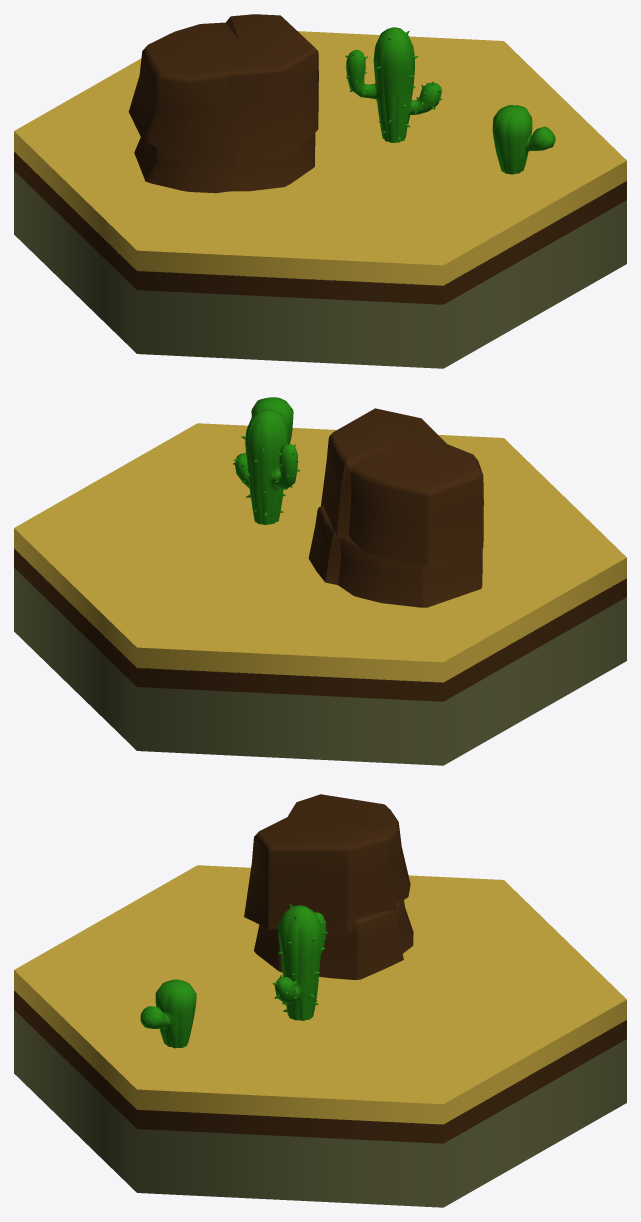
Rendered from Model_Rock2.fbx.
3 renders of one model, top to bottom at view 1: azimuth 30°, elevation 25°; view 2: azimuth 150°, elevation 25°; view 3: azimuth 270°, elevation 25°, orthographic.
Parts seen in each view (by area): view 1: Cylinder018, Cylinder020, Obj3d66-9454016-6-145, Cylinder019, Obj3d66-9454016-6-144, Obj3d66-1611312-10-674, Obj3d66-1611312-3-571; view 2: Cylinder018, Cylinder020, Obj3d66-9454016-6-145, Cylinder019, Obj3d66-9454016-6-144, Obj3d66-1611312-10-674, Obj3d66-1611312-3-571; view 3: Cylinder018, Cylinder020, Obj3d66-9454016-6-145, Cylinder019, Obj3d66-9454016-6-144, Obj3d66-1611312-10-674, Obj3d66-1611312-3-571.
Part boxes in pixels (left/top/right/bottom): Cylinder018: left=14, top=31, right=626, bottom=285; Cylinder020: left=14, top=171, right=626, bottom=368; Obj3d66-9454016-6-145: left=128, top=14, right=318, bottom=169; Cylinder019: left=14, top=151, right=626, bottom=304; Obj3d66-9454016-6-144: left=134, top=133, right=315, bottom=193; Obj3d66-1611312-10-674: left=346, top=27, right=441, bottom=142; Obj3d66-1611312-3-571: left=492, top=105, right=555, bottom=174; Cylinder018: left=14, top=423, right=626, bottom=682; Cylinder020: left=14, top=568, right=626, bottom=765; Obj3d66-9454016-6-145: left=321, top=408, right=483, bottom=566; Cylinder019: left=14, top=548, right=626, bottom=701; Obj3d66-9454016-6-144: left=308, top=505, right=482, bottom=607; Obj3d66-1611312-10-674: left=235, top=409, right=297, bottom=524; Obj3d66-1611312-3-571: left=251, top=397, right=293, bottom=443; Cylinder018: left=14, top=865, right=626, bottom=1124; Cylinder020: left=14, top=1010, right=626, bottom=1207; Obj3d66-9454016-6-145: left=244, top=794, right=410, bottom=931; Cylinder019: left=14, top=990, right=626, bottom=1143; Obj3d66-9454016-6-144: left=254, top=900, right=413, bottom=979; Obj3d66-1611312-10-674: left=274, top=905, right=326, bottom=1020; Obj3d66-1611312-3-571: left=140, top=979, right=196, bottom=1048.
Bounding box in the file's own units: 1396 × 627 × 1513.
